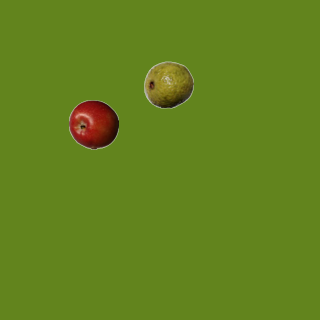Apple Braeburn: (68, 99, 118, 149)
Guava: (143, 59, 193, 109)
